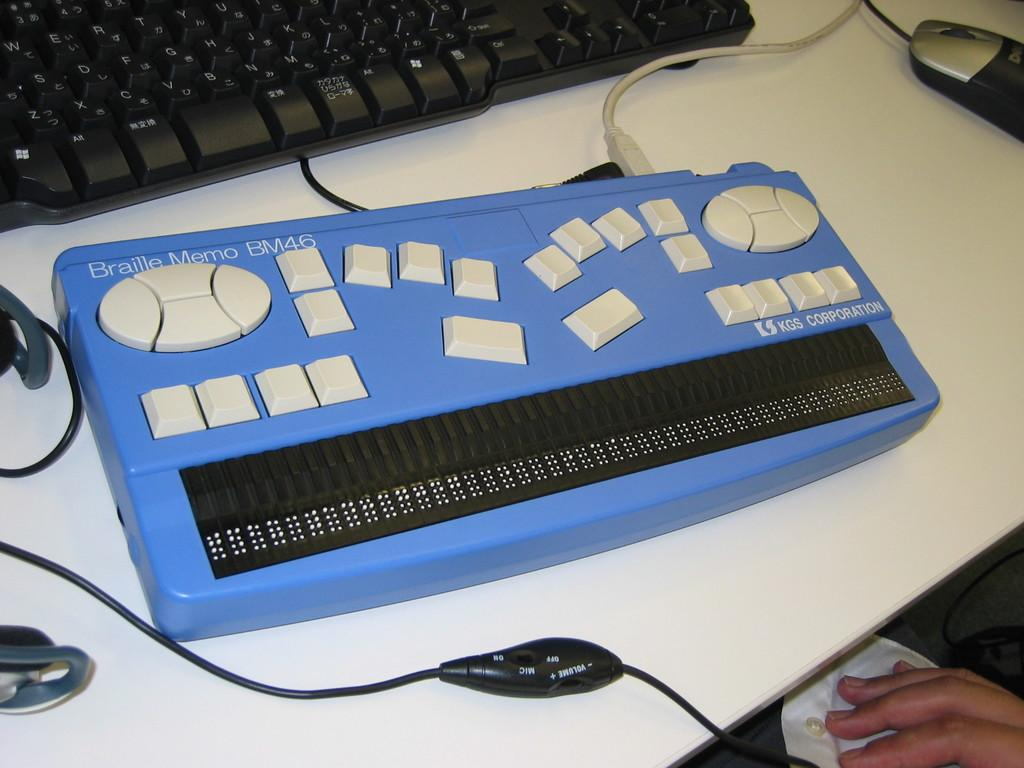Computer-keyboard: (0, 0, 755, 238)
Computer-mouse: (911, 17, 1023, 139)
